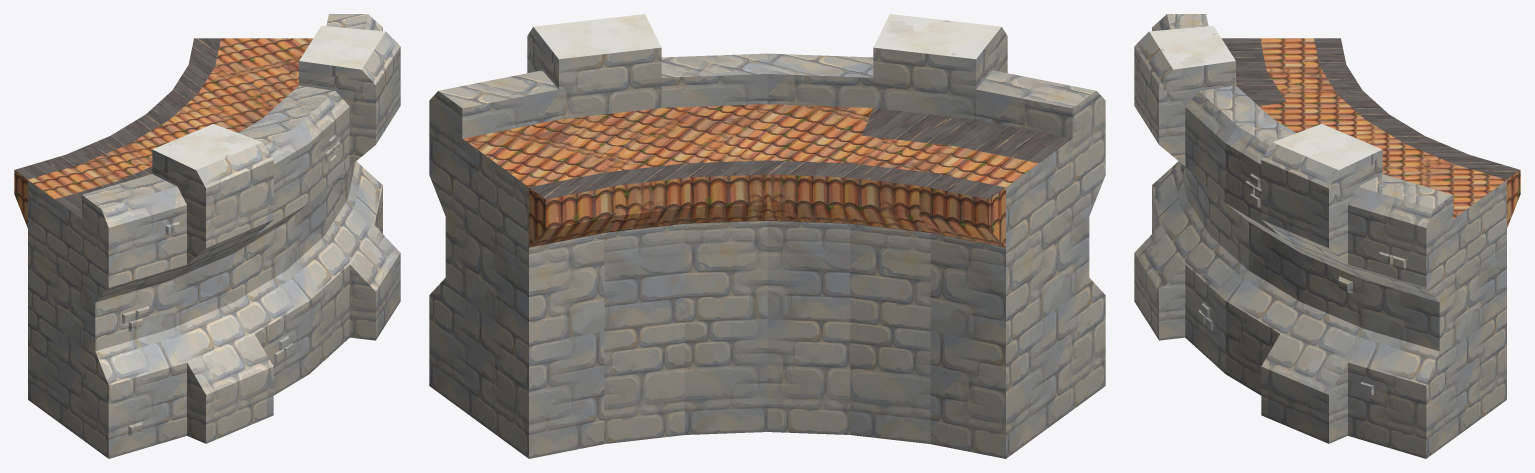
Rendered from wall_corner_A_outside.gltf.
3 renders of one model, left to right at view 1: azimuth 30°, elevation 25°; view 2: azimuth 150°, elevation 25°; view 3: azimuth 270°, elevation 25°, orthographic. The views are drawn at different scales.
Visible parts, largest first — view 1: wall_corner_A_outside; view 2: wall_corner_A_outside; view 3: wall_corner_A_outside.
Part boxes in pixels (x1,y1,x2,y2): wall_corner_A_outside: (14,14,400,458); wall_corner_A_outside: (429,14,1105,458); wall_corner_A_outside: (1134,14,1520,458).
Bounding box in the file's own units: 1.76 × 1.1 × 1.43.
4 materials, 4 textured.
